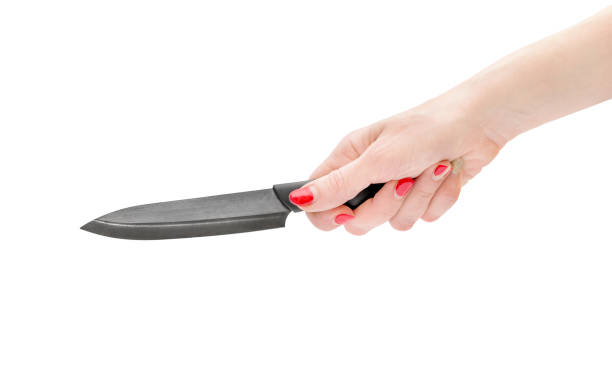knife: (78, 183, 295, 242)
